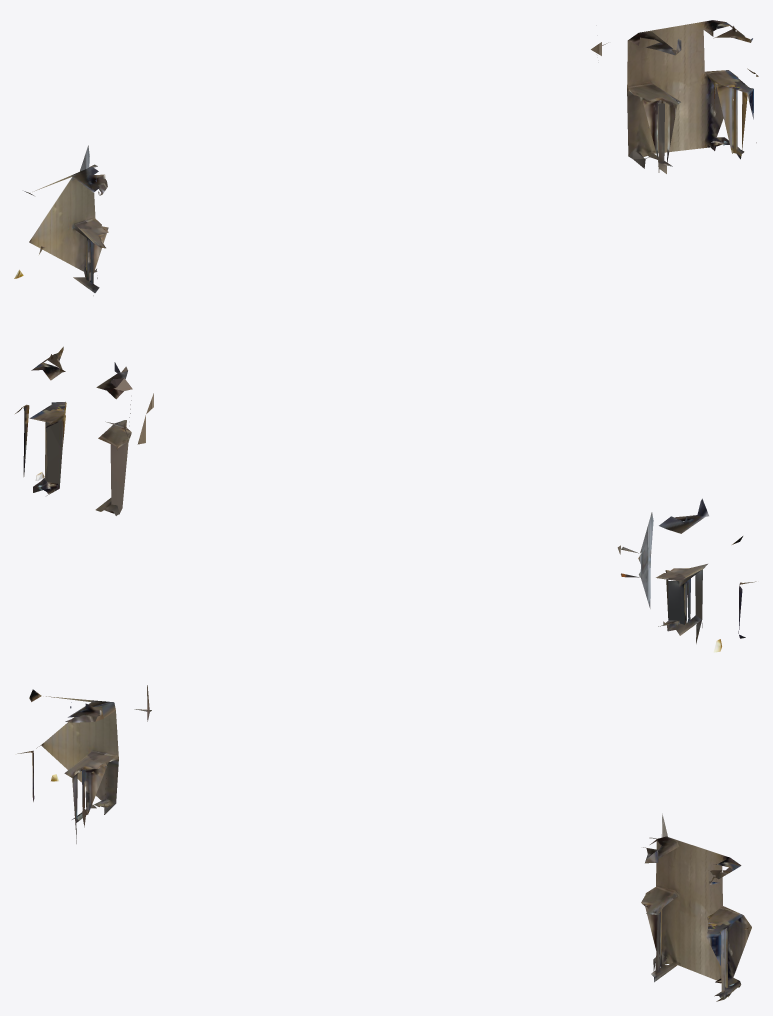
File: organ-balcony.glb
The picture shows the model from 3 angles, top to bottom: view 1: azimuth 30°, elevation 25°; view 2: azimuth 150°, elevation 25°; view 3: azimuth 330°, elevation 25°; orthographic projection.
Visible parts, largest first — view 1: Node; view 2: Node; view 3: Node.
Boxes of the visible parts, x1,y1,x2,y2 form: Node: [14, 20, 758, 295]; Node: [15, 346, 756, 652]; Node: [17, 685, 751, 1001].
Size of the model in its own units: 14.99 by 2.95 by 1.88.
7 materials, 7 textured.
